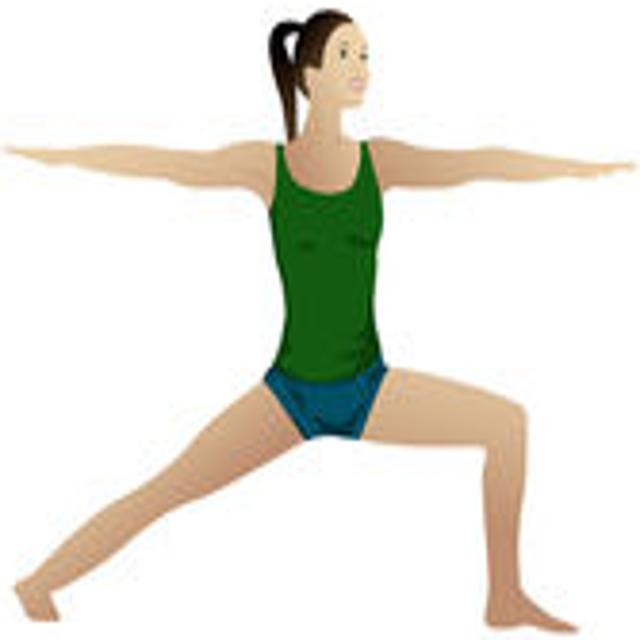Warrior_II: (5, 7, 639, 640)
